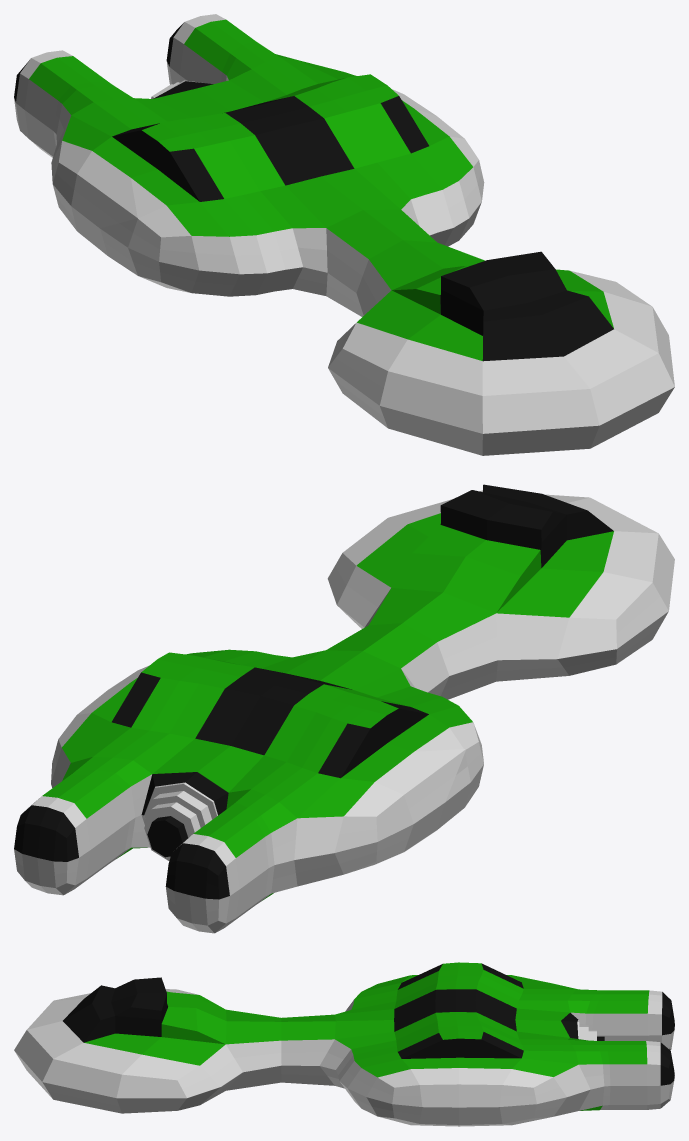
File: Bboy_ship.FBX
3 views of the same model, one above another, from view 1: azimuth 30°, elevation 25°; view 2: azimuth 150°, elevation 25°; view 3: azimuth 270°, elevation 25° (orthographic). The views are drawn at different scales.
Visible parts, largest first — view 1: Ship_t; view 2: Ship_t; view 3: Ship_t.
Boxes of the visible parts, x1,y1,x2,y2 form: Ship_t: [14, 14, 674, 455]; Ship_t: [14, 484, 674, 933]; Ship_t: [14, 962, 674, 1126].
Bounding box in the file's own units: 8.05 × 2.86 × 19.61.
